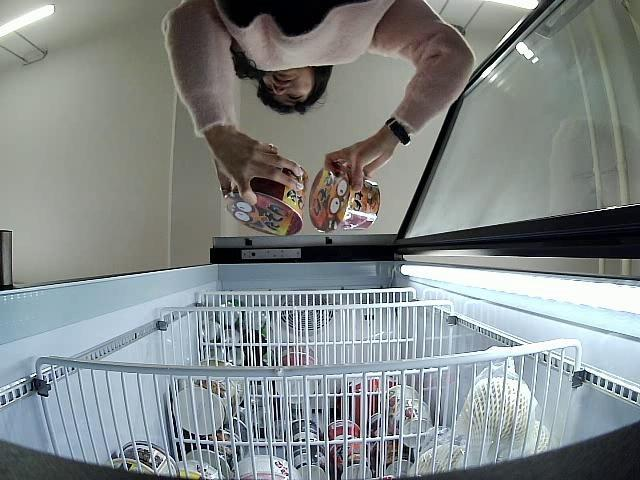05_nuguri_L: (220, 156, 310, 238), (309, 162, 380, 234)
